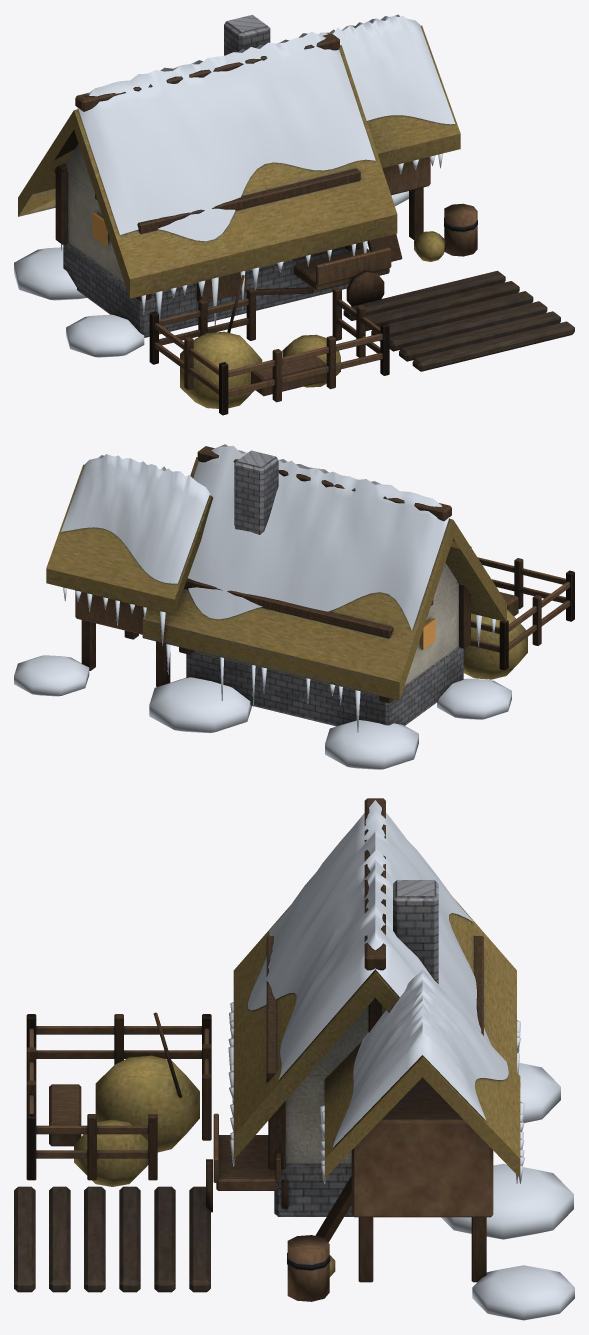
Rendered from wacht_farm.glb.
3 renders of one model, top to bottom at view 1: azimuth 30°, elevation 25°; view 2: azimuth 150°, elevation 25°; view 3: azimuth 270°, elevation 25°, orthographic. The views are drawn at different scales.
Parts seen in each view (by area): view 1: wacht_farm, Schnee; view 2: wacht_farm, Schnee; view 3: wacht_farm, Schnee.
Part boxes in pixels (<box>): wacht_farm: <box>18,15,574,415</box>; Schnee: <box>14,14,455,357</box>; wacht_farm: <box>46,446,574,726</box>; Schnee: <box>14,444,511,769</box>; wacht_farm: <box>14,798,520,1301</box>; Schnee: <box>228,800,574,1320</box>.
Size of the model in its own units: 4.61 by 2.81 by 4.16.
2 materials, 1 textured.
